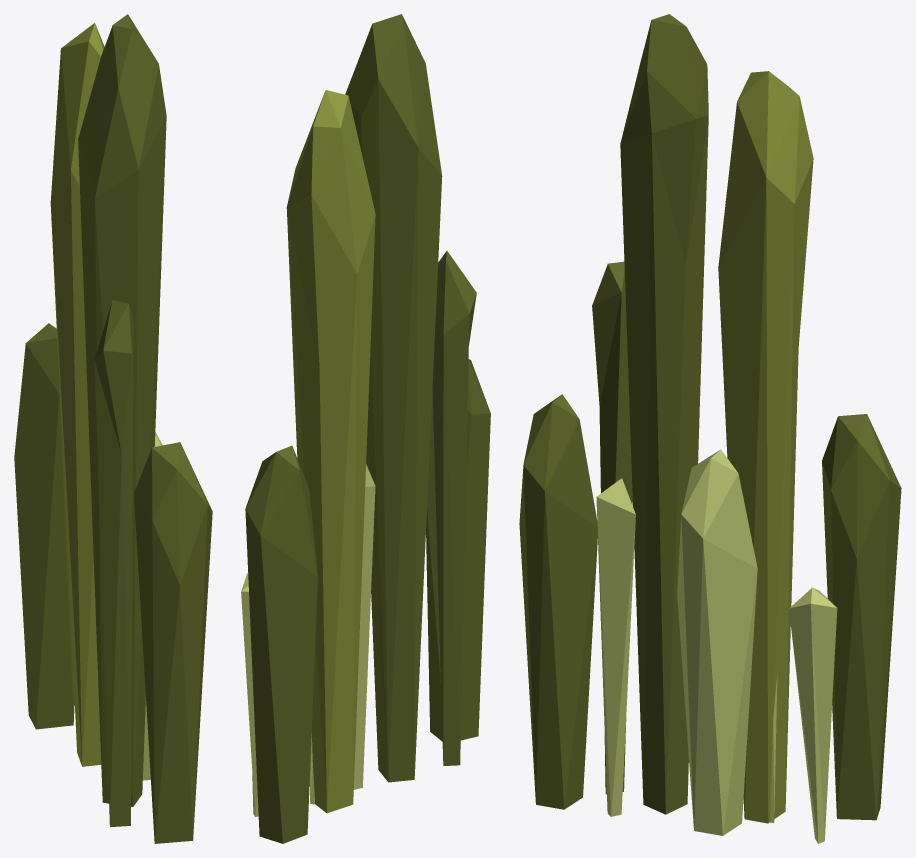
Rendered from ea_swamp_grass_01e_pre__21__lev1.glb.
3 renders of one model, left to right at view 1: azimuth 30°, elevation 25°; view 2: azimuth 150°, elevation 25°; view 3: azimuth 270°, elevation 25°, orthographic. The views are drawn at different scales.
Parts seen in each view (by area): view 1: ea_swamp_grass_01e_pre__21__lev1; view 2: ea_swamp_grass_01e_pre__21__lev1; view 3: ea_swamp_grass_01e_pre__21__lev1.
Part boxes in pixels (bbox=[...]): ea_swamp_grass_01e_pre__21__lev1: bbox=[14, 14, 212, 843]; ea_swamp_grass_01e_pre__21__lev1: bbox=[241, 14, 490, 843]; ea_swamp_grass_01e_pre__21__lev1: bbox=[519, 14, 901, 843].
Bounding box in the file's own units: 0.4834 × 2.69 × 1.18.
Materials: 1 (1 with a texture image).
